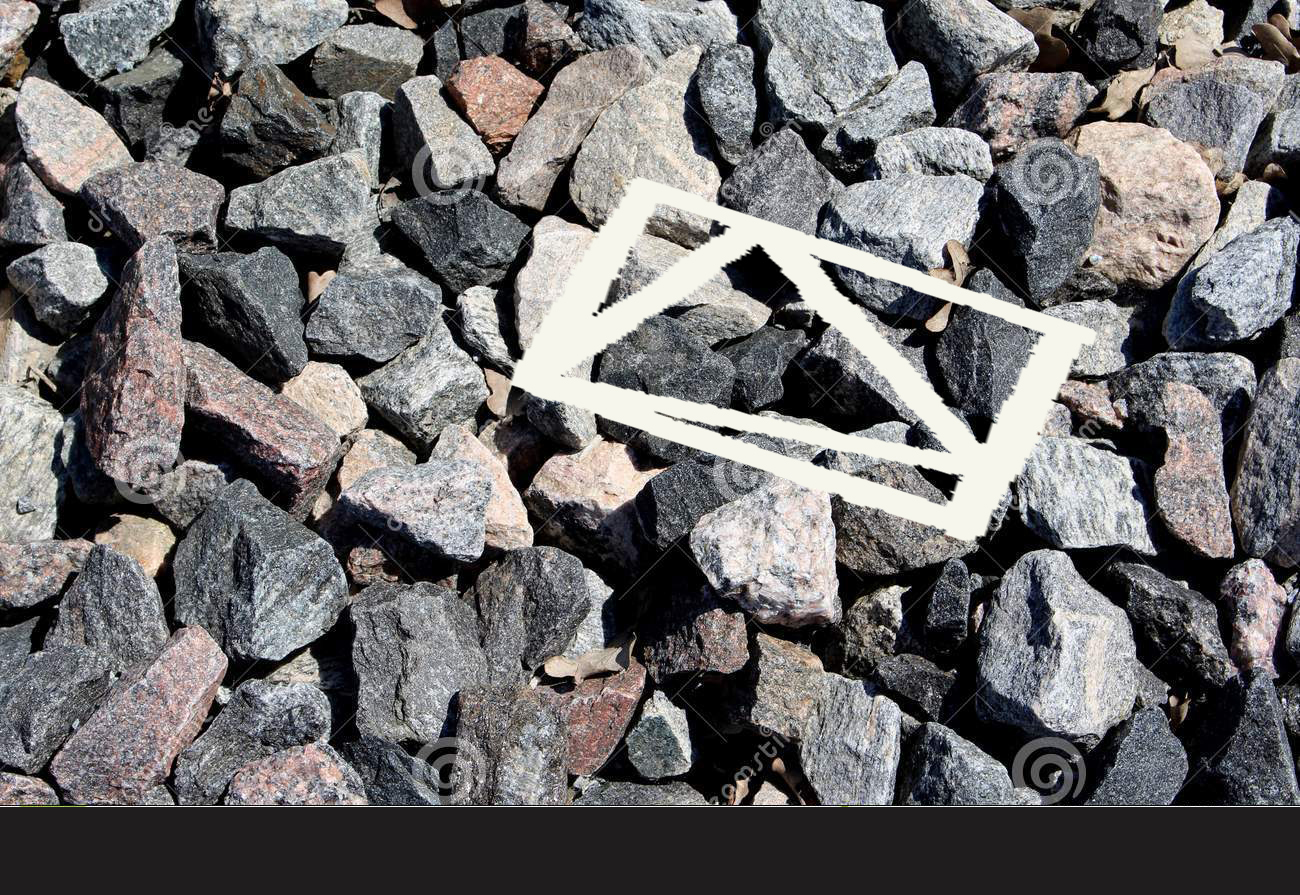marker: (496, 170, 1106, 545)
